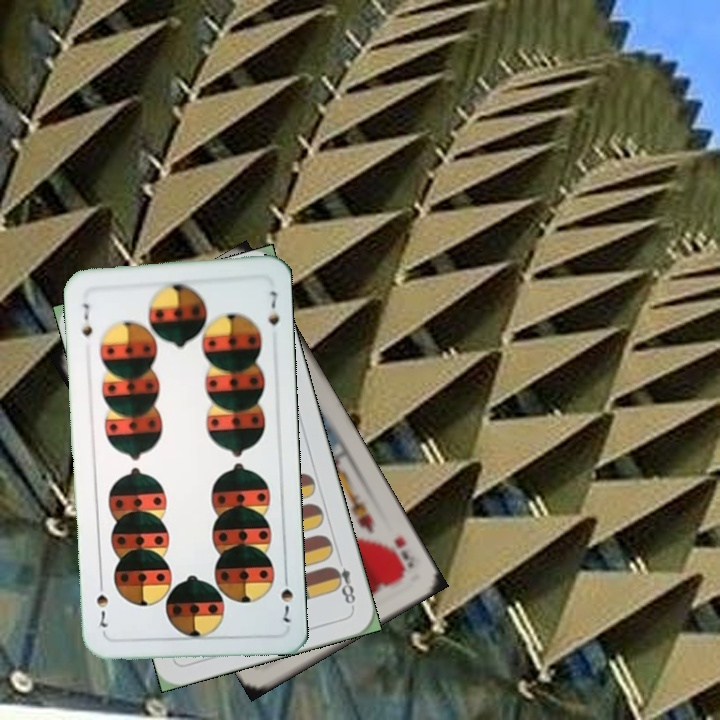E8: (327, 552, 358, 611)
HK: (382, 532, 416, 575)
S7: (277, 569, 295, 625), (78, 300, 95, 339)
